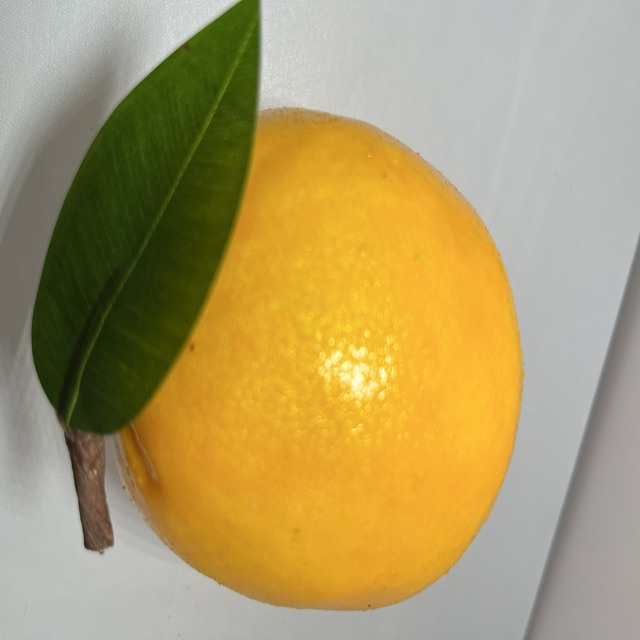Cam vang: (80, 94, 526, 621)
